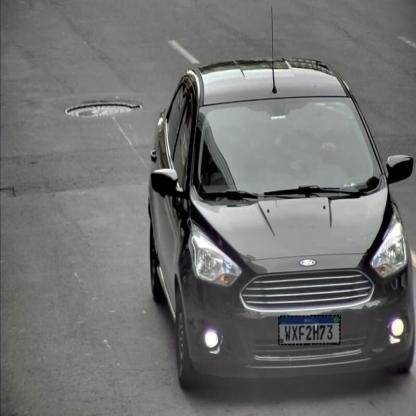PlacaM: (278, 315, 341, 345)
